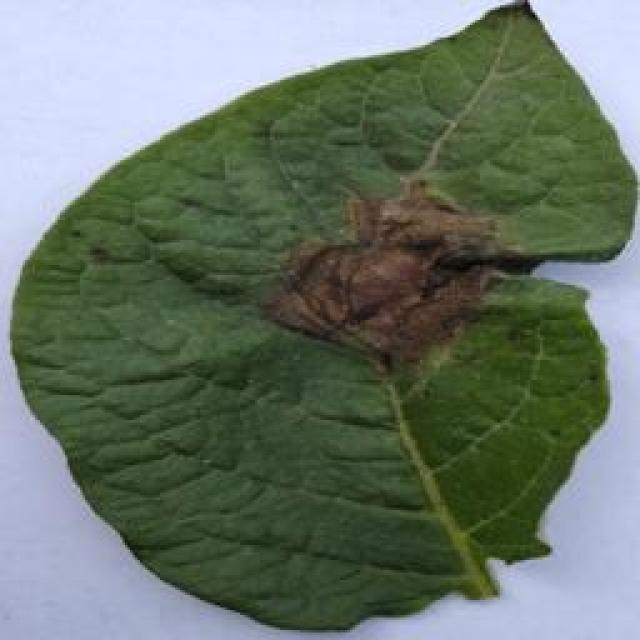Potato_Late_Blight: (2, 16, 633, 640)
